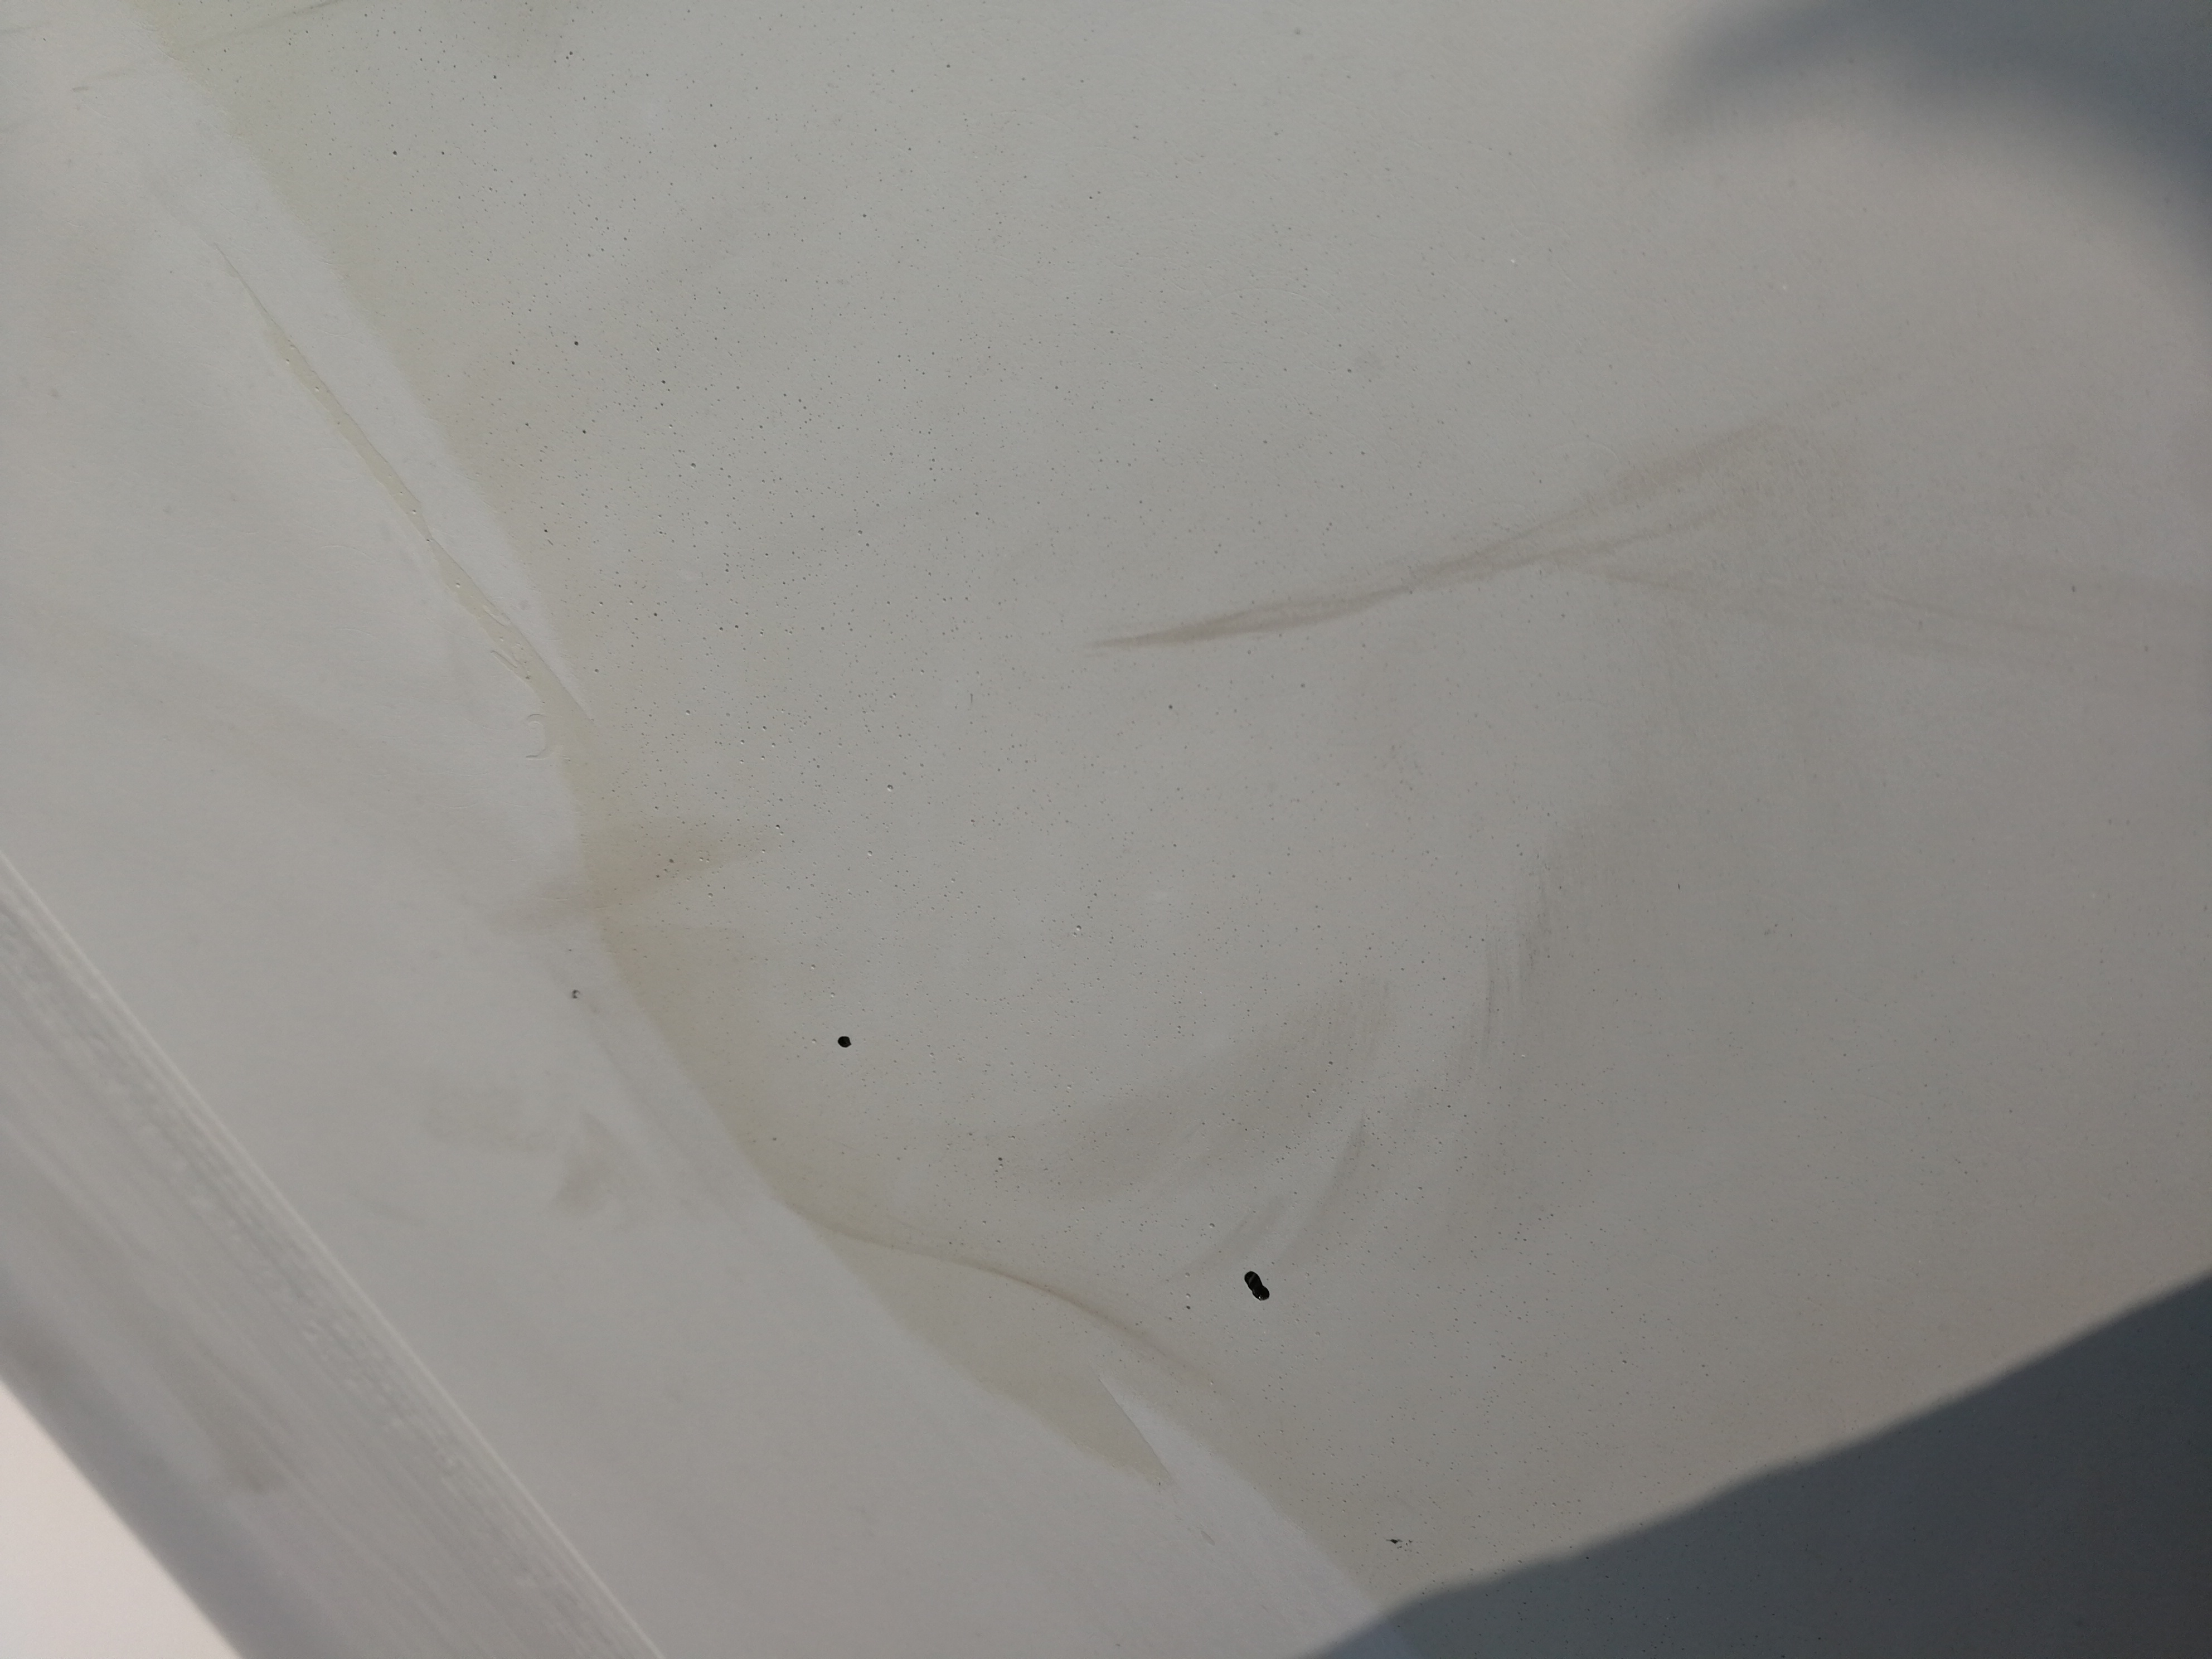SD: (1224, 1265, 1275, 1307), (826, 1026, 859, 1058)
